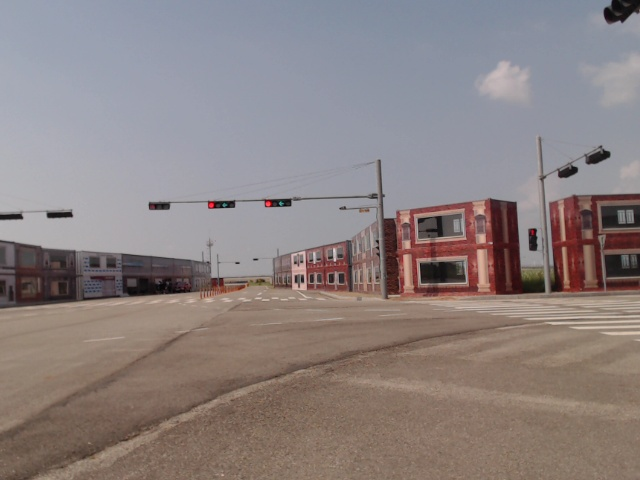left_green_4: (208, 202, 234, 209), (265, 200, 291, 207)
